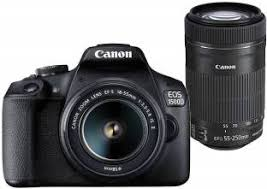camera: (5, 46, 187, 184)
